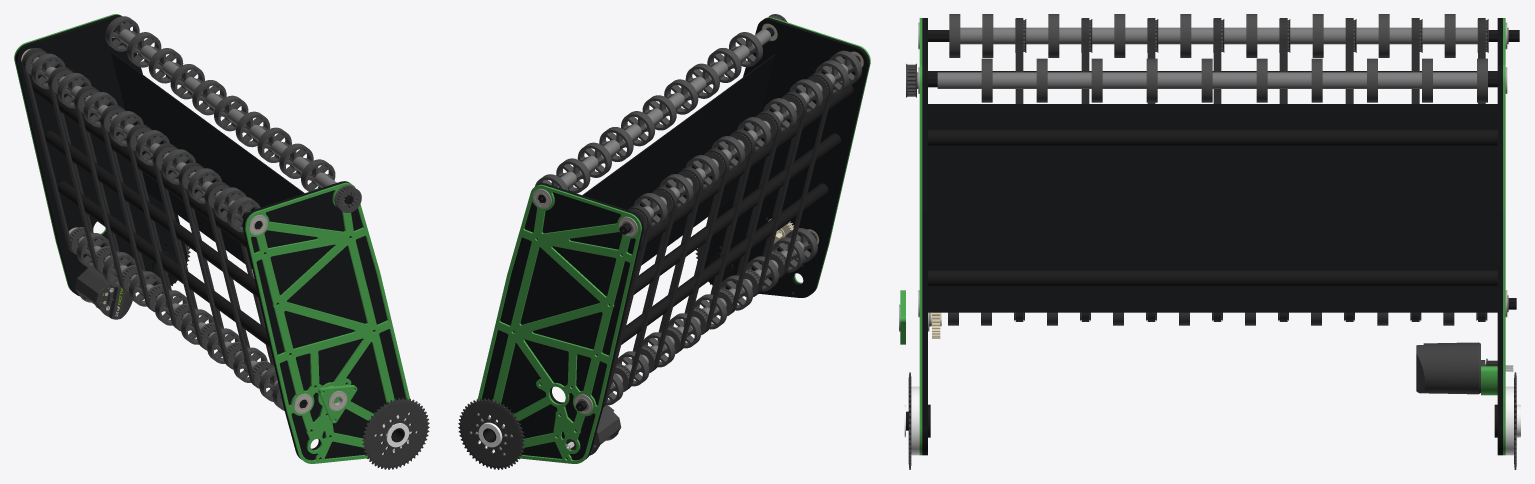
3 views of the same model, side by side, from view 1: azimuth 30°, elevation 25°; view 2: azimuth 150°, elevation 25°; view 3: azimuth 270°, elevation 25° (orthographic). The views are drawn at different scales.
Parts seen in each view (by area): view 1: NAUO232, NAUO153, NAUO181, NAUO285, NAUO18, NAUO137, NAUO177, NAUO77, NAUO281, NAUO280, NAUO221, NAUO253 (+34 smaller); view 2: NAUO181, NAUO232, NAUO23, NAUO285, NAUO95, NAUO137, NAUO177, NAUO77, NAUO221, NAUO128, NAUO127, NAUO110 (+32 smaller); view 3: NAUO285, NAUO201, NAUO67, NAUO281, NAUO232, NAUO181, NAUO153, NAUO23, NAUO77, NAUO110, NAUO128, NAUO253 (+4 smaller).
Part boxes in pixels (x1,y1,x2,y2): NAUO232: (242, 181, 405, 460); NAUO153: (244, 182, 409, 463); NAUO181: (15, 14, 187, 296); NAUO285: (111, 52, 304, 268); NAUO18: (362, 398, 429, 469); NAUO137: (44, 131, 258, 297); NAUO177: (57, 181, 269, 347); NAUO77: (32, 82, 247, 247); NAUO281: (75, 267, 132, 319); NAUO280: (204, 181, 274, 388); NAUO221: (152, 143, 225, 350); NAUO253: (48, 67, 120, 273); NAUO181: (482, 183, 643, 460); NAUO232: (704, 18, 869, 297); NAUO23: (477, 184, 641, 463); NAUO285: (582, 55, 774, 265); NAUO95: (458, 398, 524, 469); NAUO137: (630, 133, 841, 294); NAUO177: (621, 183, 828, 344); NAUO77: (639, 85, 853, 249); NAUO221: (710, 110, 781, 315); NAUO128: (658, 148, 729, 353); NAUO127: (736, 91, 807, 296); NAUO110: (633, 167, 703, 372); NAUO285: (928, 104, 1497, 312); NAUO201: (928, 129, 1497, 146); NAUO67: (928, 270, 1497, 286); NAUO281: (1416, 342, 1513, 394); NAUO232: (922, 18, 927, 455); NAUO181: (1497, 18, 1502, 455); NAUO153: (919, 18, 922, 455); NAUO23: (1503, 18, 1505, 455); NAUO77: (928, 71, 1497, 87); NAUO110: (1345, 18, 1353, 321); NAUO128: (1279, 18, 1287, 321); NAUO253: (1411, 18, 1419, 321).
Size of the model in its own units: 0.3079 by 0.478 by 0.7175.
